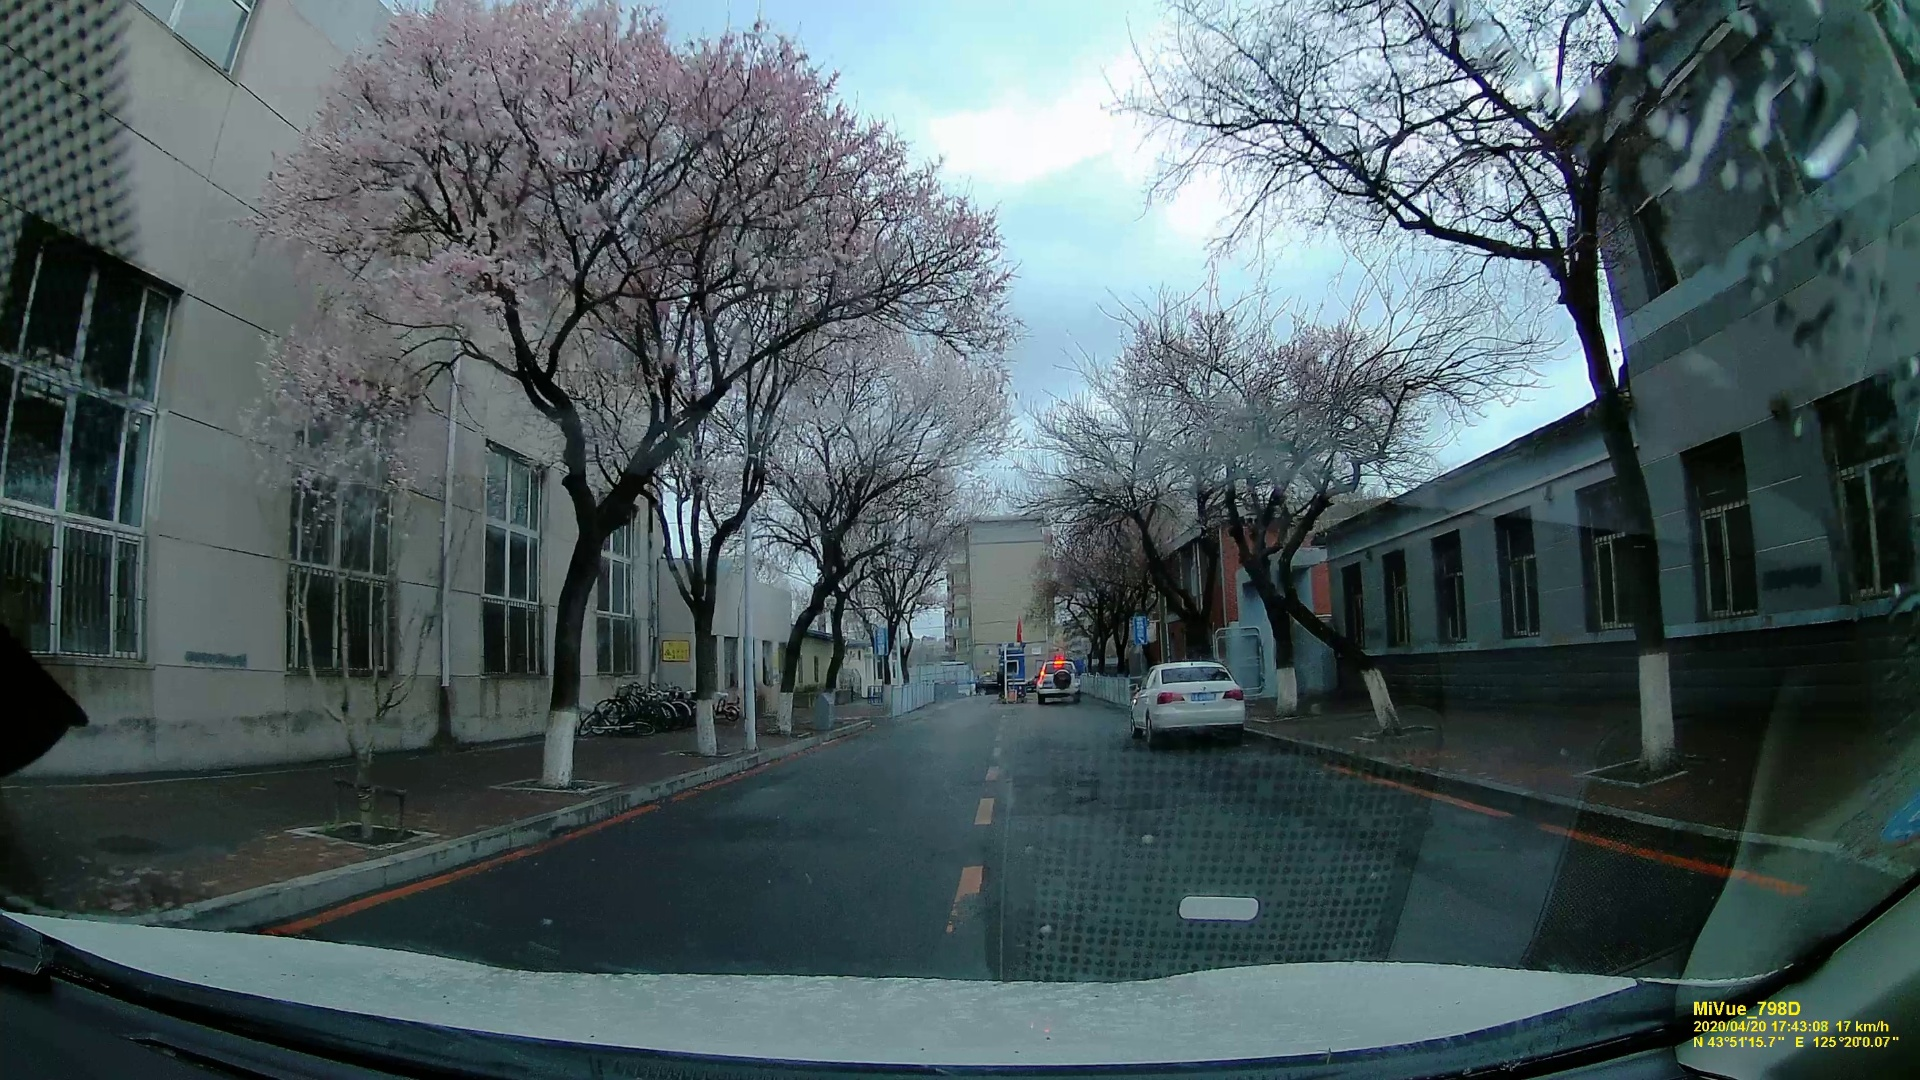vehicle: (1127, 658, 1249, 742), (1033, 659, 1081, 702)
